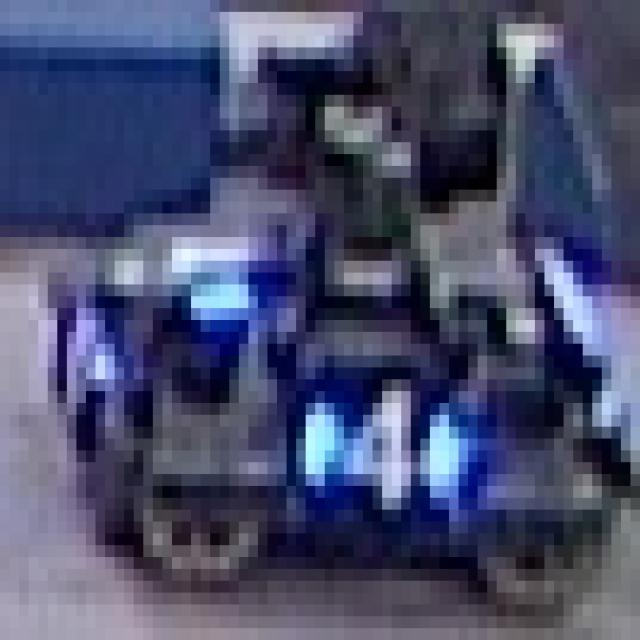B4: (306, 356, 458, 534)
